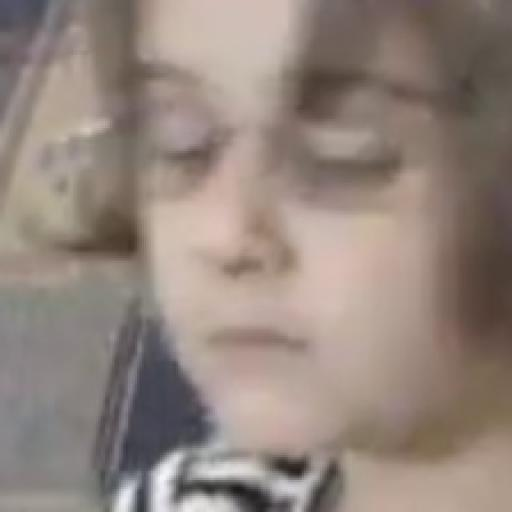Autism: (99, 16, 512, 512)
